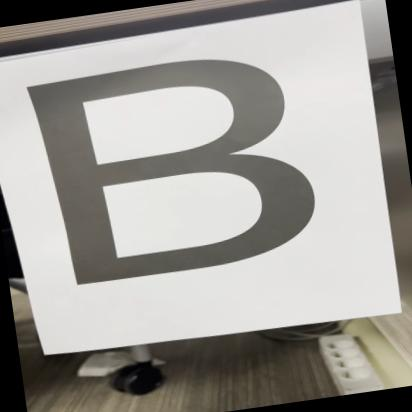seat: (3, 31, 336, 300)
